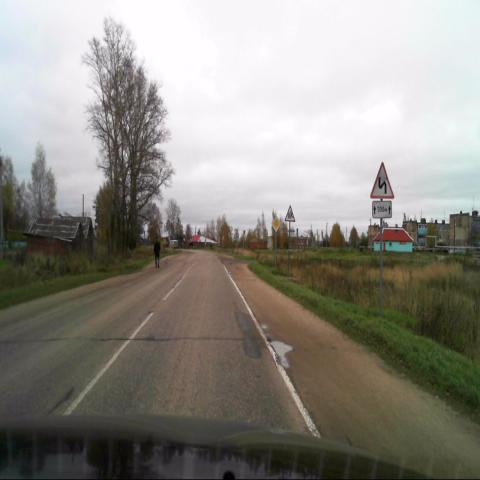1_12_2: (370, 162, 394, 199)
